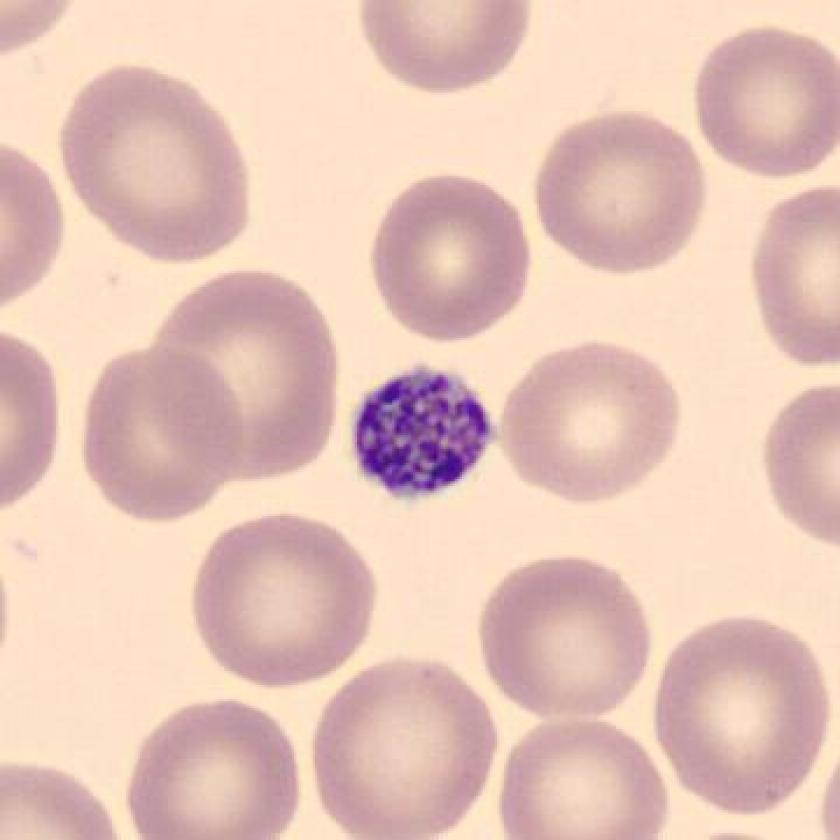platelets: (346, 358, 498, 504)
